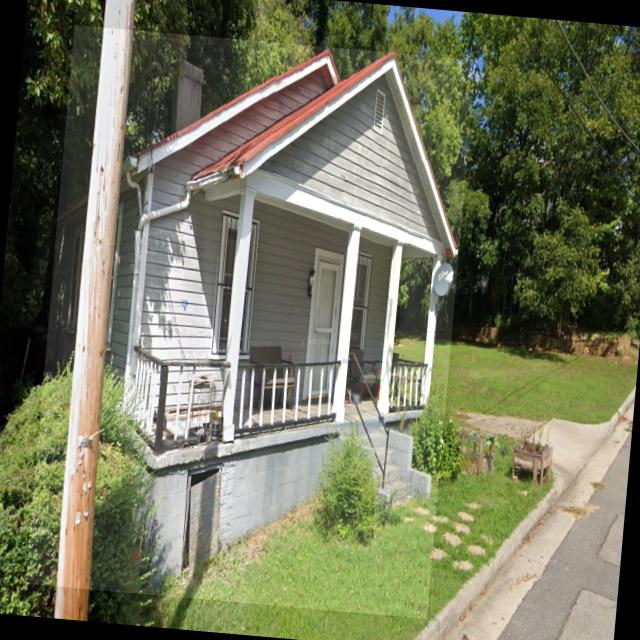House: (24, 24, 476, 618)
